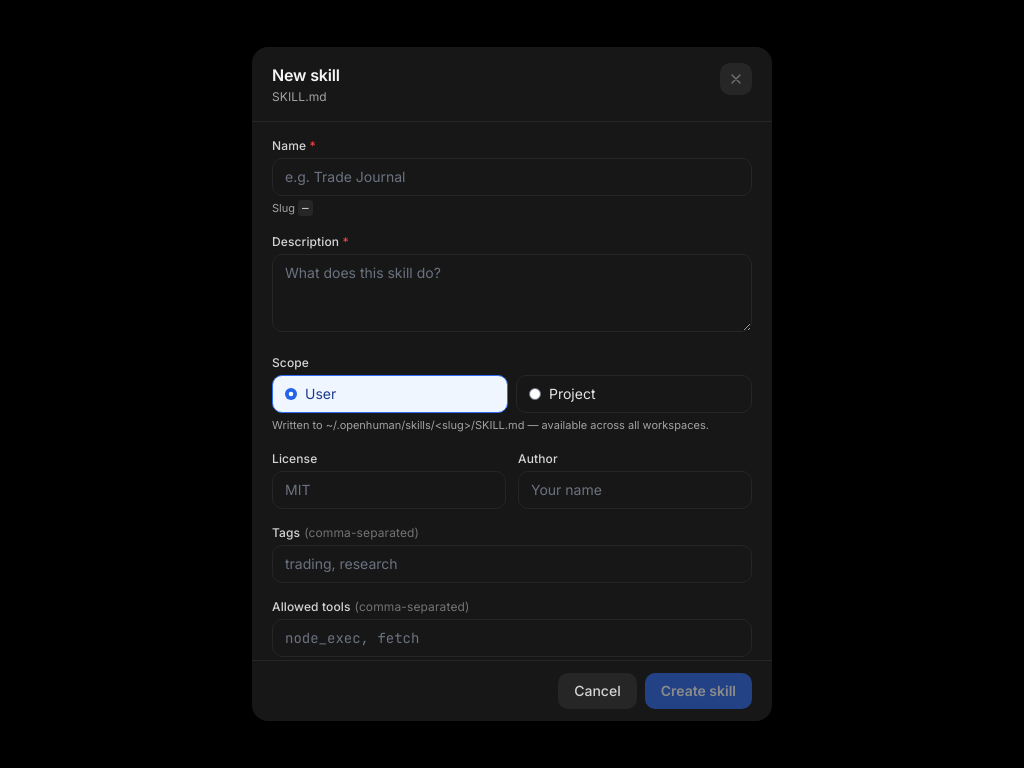
Test case: CreateSkillModal › disables submit when name or description is empty
expect the button "Create skill" is disabled: met, box [645,673,752,709]
Type "demo" into the field labelled "Name *". click: (512, 177)
box: [272,158,752,196]
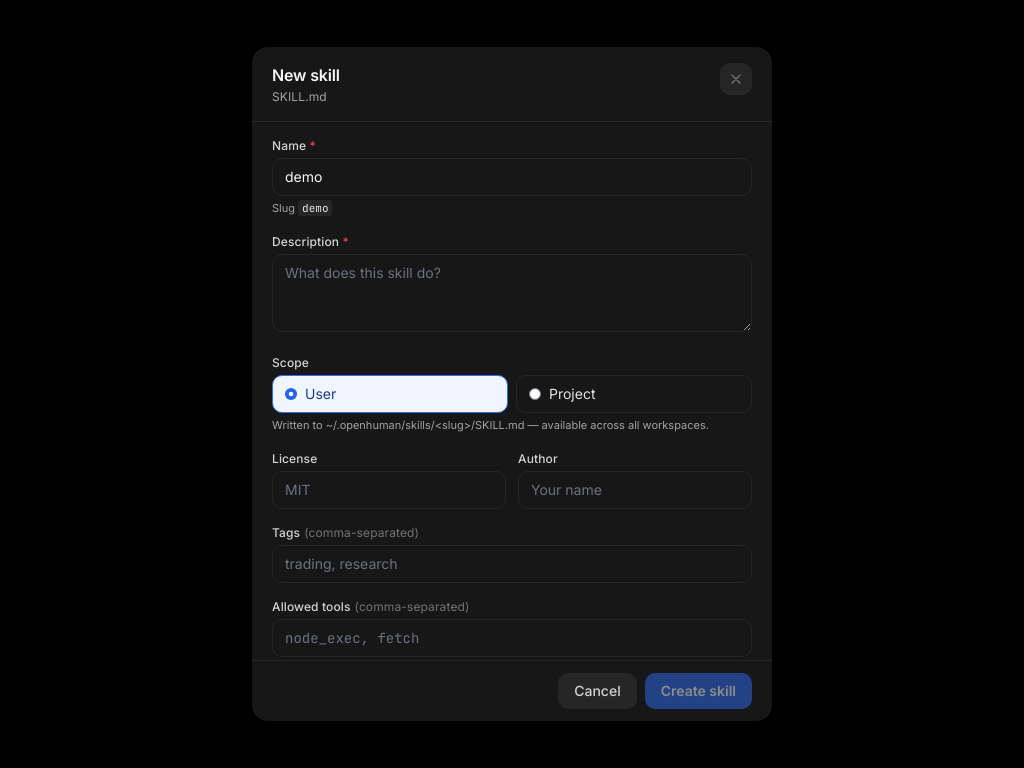
expect the button "Create skill" is disabled: met, box [645,673,752,709]
Type "what it does" into the text box labelled "Description *". click: (512, 293)
box: [272,254,752,332]
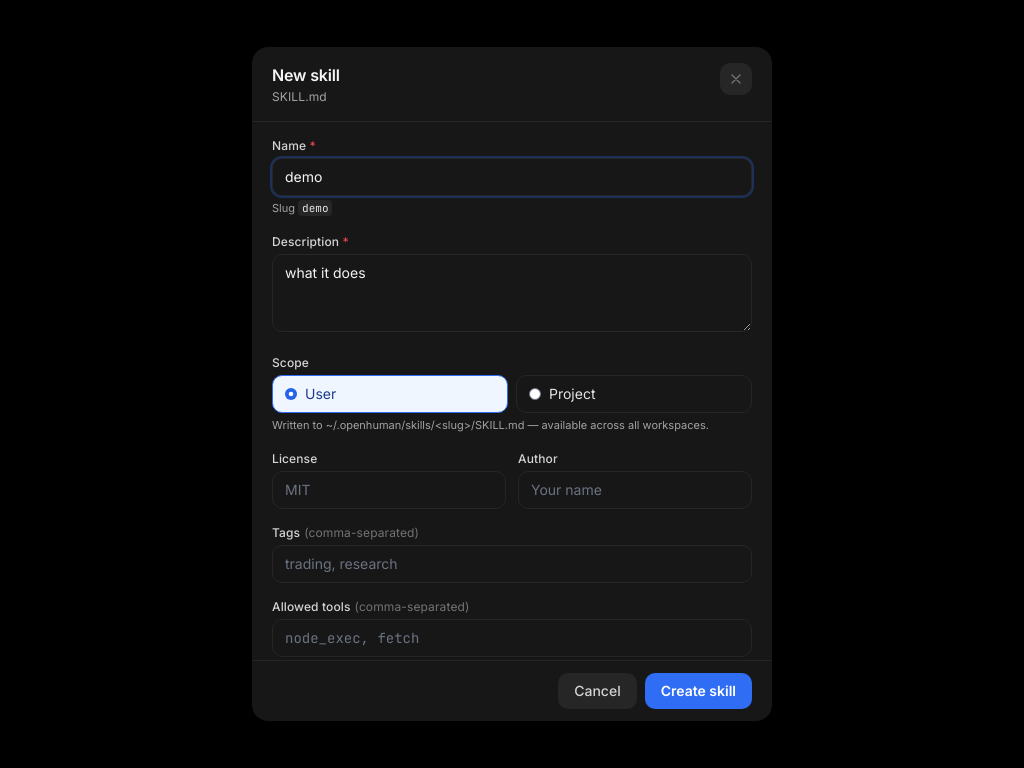
expect the button "Create skill" is enabled: met, box [645,673,752,709]
